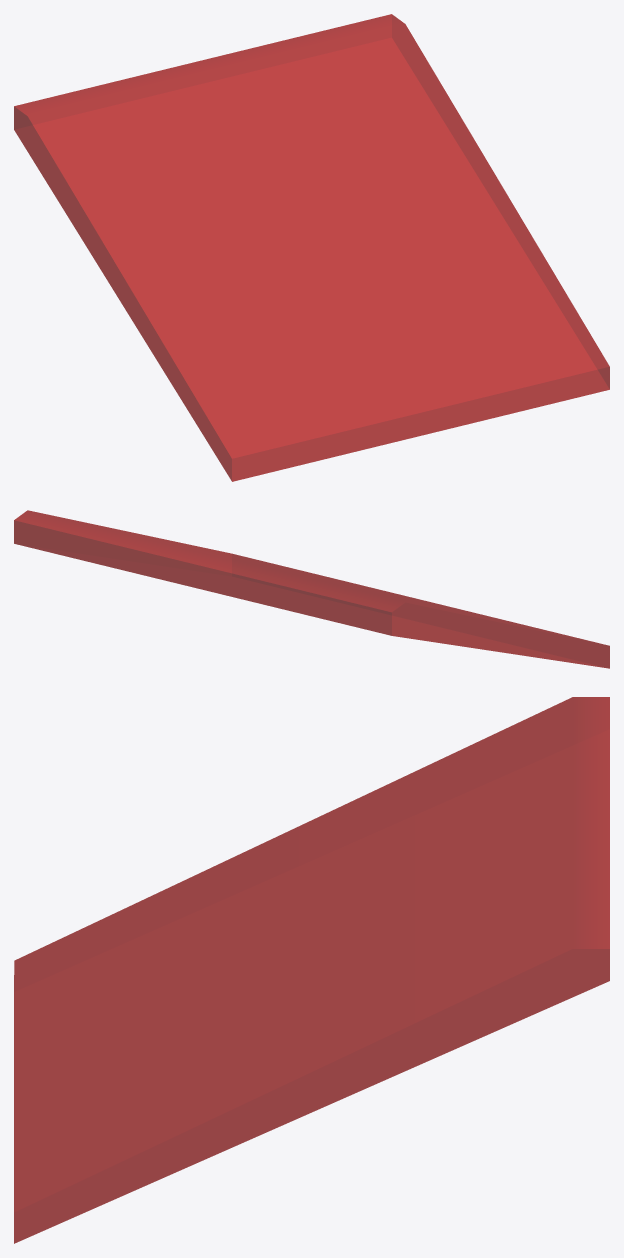
The model's file is SM_Env_Dwarf_Stairs_01_Collision.fbx.
3 renders of one model, top to bottom at view 1: azimuth 30°, elevation 25°; view 2: azimuth 150°, elevation 25°; view 3: azimuth 270°, elevation 25°, orthographic. The views are drawn at different scales.
Parts seen in each view (by area): view 1: SM_Env_Dwarf_Stairs_01_Collision; view 2: SM_Env_Dwarf_Stairs_01_Collision; view 3: SM_Env_Dwarf_Stairs_01_Collision.
Boxes of the visible parts, left/top/right/bottom form: SM_Env_Dwarf_Stairs_01_Collision: left=14, top=14, right=609, bottom=481; SM_Env_Dwarf_Stairs_01_Collision: left=14, top=510, right=609, bottom=668; SM_Env_Dwarf_Stairs_01_Collision: left=14, top=697, right=609, bottom=1243.
Size of the model in its own units: 500 by 273 by 500.
